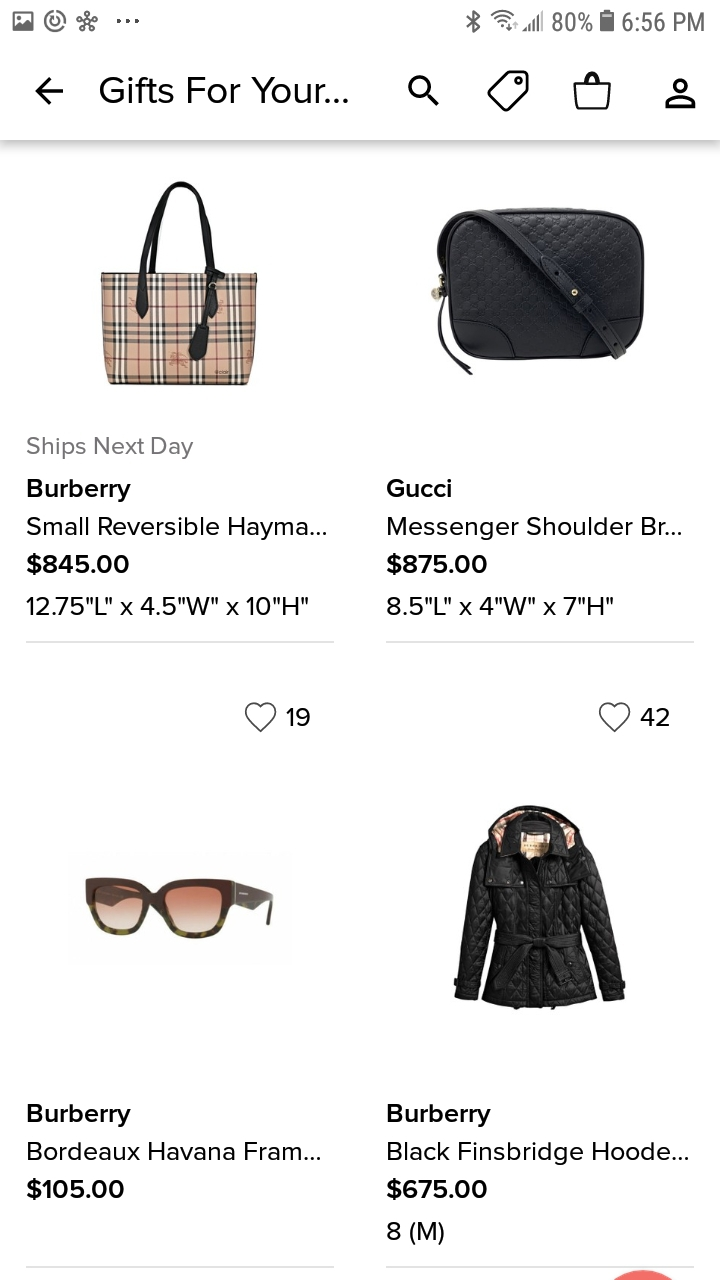Icon: (487, 70, 530, 113), (573, 71, 612, 111), (408, 75, 440, 107), (599, 702, 631, 733), (665, 78, 696, 110), (245, 703, 277, 733), (36, 78, 64, 107)
Image: (432, 208, 644, 376), (454, 805, 626, 1010), (101, 182, 258, 387), (87, 878, 274, 939)
Text: (388, 1141, 688, 1166), (28, 517, 327, 541), (387, 517, 681, 541), (99, 77, 349, 105), (27, 596, 309, 616), (29, 1141, 321, 1160), (387, 597, 614, 616), (27, 436, 195, 460), (387, 1103, 492, 1128), (28, 479, 133, 503), (28, 1104, 131, 1127), (27, 553, 130, 576), (387, 1177, 488, 1200), (387, 553, 487, 576), (29, 1178, 125, 1200), (387, 1221, 445, 1246), (386, 478, 452, 498), (640, 707, 670, 727), (287, 709, 310, 727)
UpperTaskBar: (1, 1, 720, 34)
